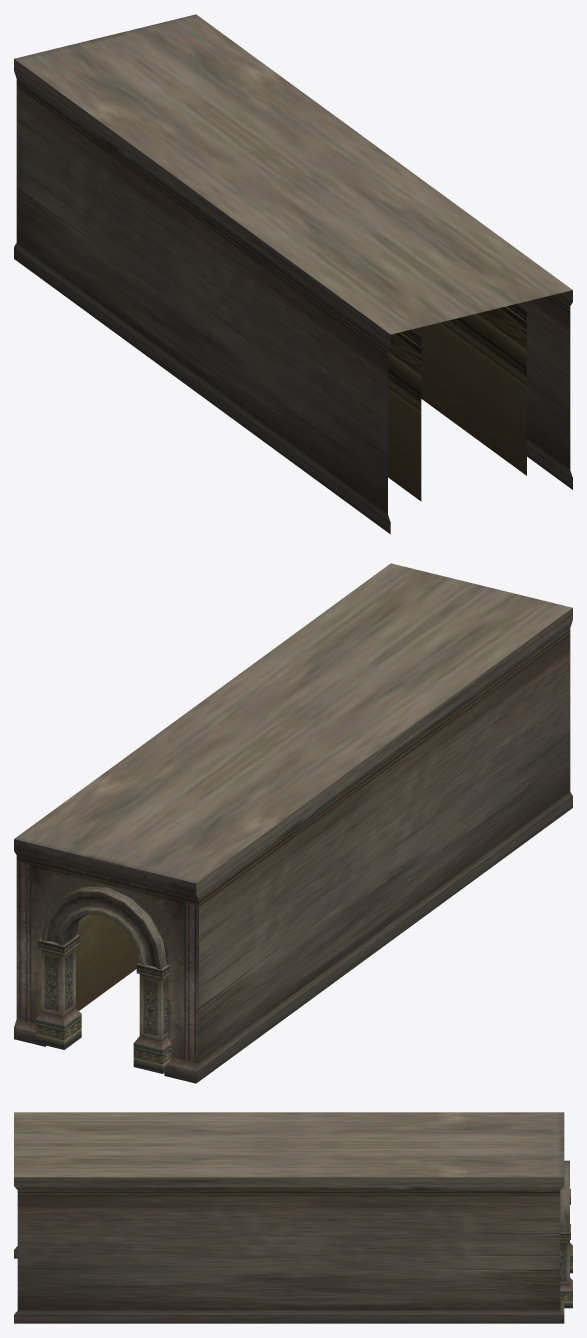
Rendered from fxdx_csd_02.FBX.
3 renders of one model, top to bottom at view 1: azimuth 30°, elevation 25°; view 2: azimuth 150°, elevation 25°; view 3: azimuth 270°, elevation 25°, orthographic. The views are drawn at different scales.
Parts seen in each view (by area): view 1: fxdx_csd_02; view 2: fxdx_csd_02; view 3: fxdx_csd_02.
Part boxes in pixels (box(x1,y1,x2,y2)): fxdx_csd_02: box(14, 14, 572, 534); fxdx_csd_02: box(14, 563, 572, 1083); fxdx_csd_02: box(14, 1112, 572, 1323).
Size of the model in its own units: 1152 by 1209 by 4190.
